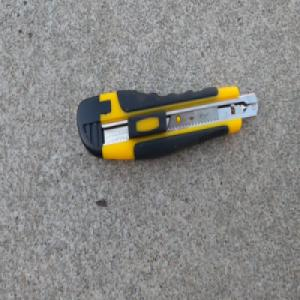Cutter: (76, 85, 258, 162)
